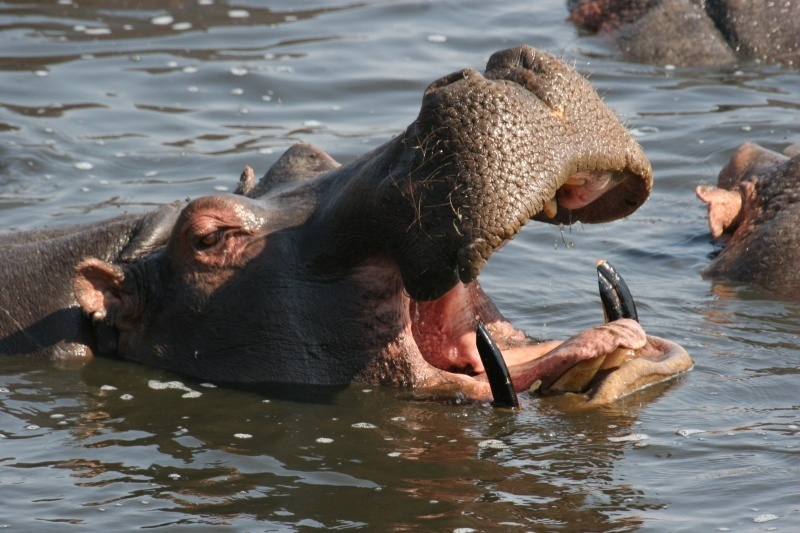hipopotamo: (0, 38, 697, 417)
